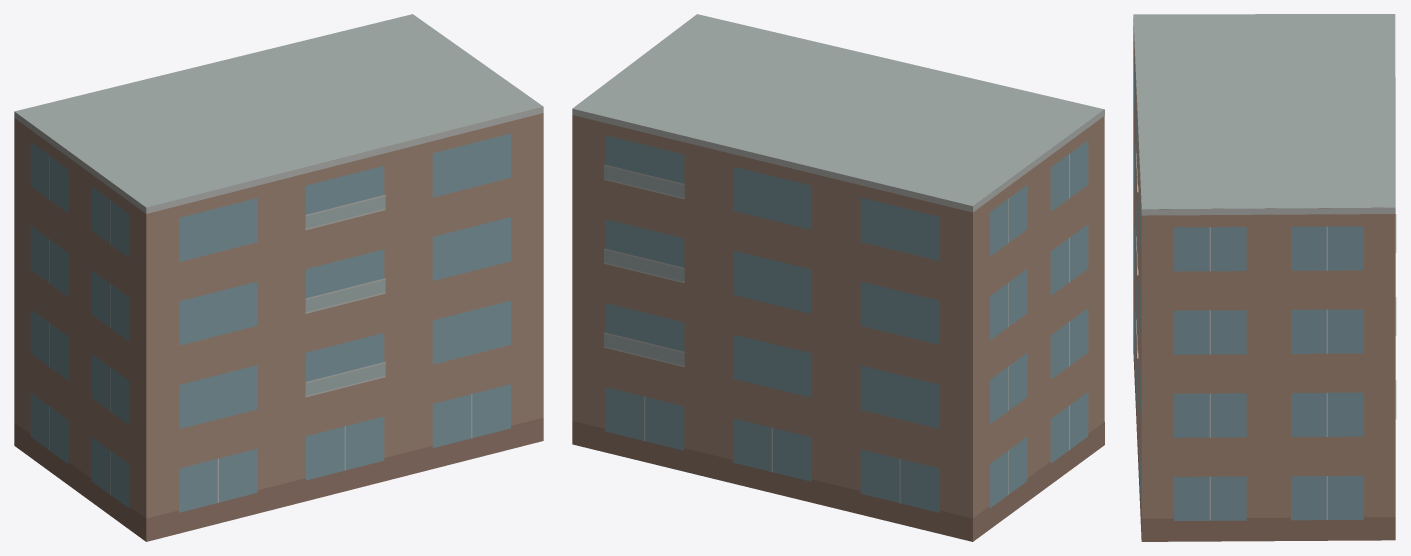
File: survey-upis-32553789.glb
3 renders of one model, left to right at view 1: azimuth 30°, elevation 25°; view 2: azimuth 150°, elevation 25°; view 3: azimuth 270°, elevation 25°, orthographic.
Parts seen in each view (by area): view 1: survey-upis-32553789.tmp; view 2: survey-upis-32553789.tmp; view 3: survey-upis-32553789.tmp.
Boxes of the visible parts, box(x1,y1,x2,y2) form: survey-upis-32553789.tmp: box(14, 14, 543, 541); survey-upis-32553789.tmp: box(572, 14, 1104, 541); survey-upis-32553789.tmp: box(1133, 14, 1396, 541).
Size of the model in its own units: 16.25 by 12.9 by 9.27.
